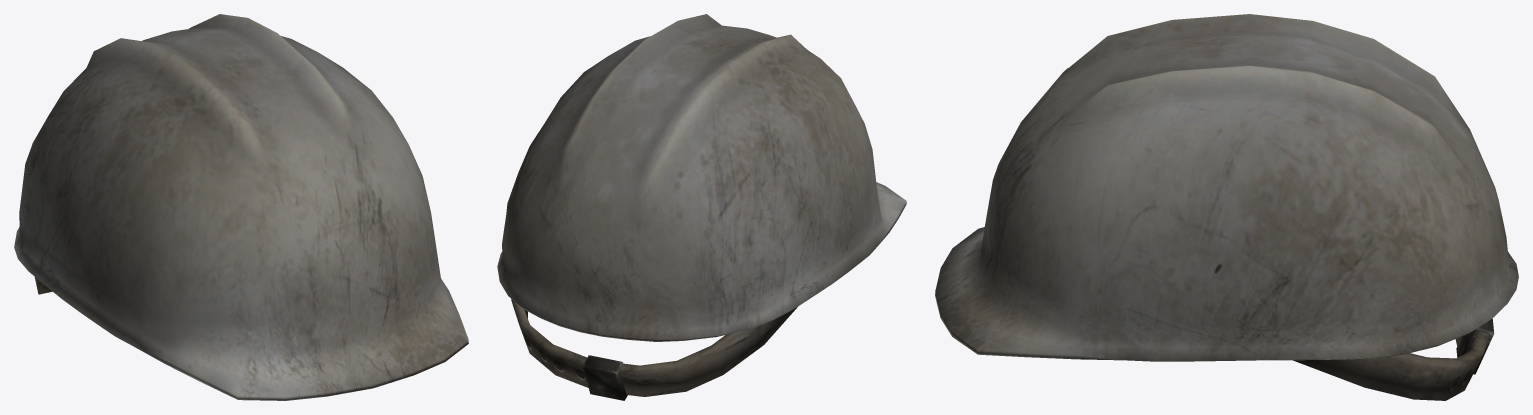
The model's file is SurvivorMale_Head_Hat_Hardhat_LOD0.glb.
3 views of the same model, side by side, from view 1: azimuth 30°, elevation 25°; view 2: azimuth 150°, elevation 25°; view 3: azimuth 270°, elevation 25° (orthographic). The views are drawn at different scales.
Parts seen in each view (by area): view 1: Hoodie; view 2: Hoodie; view 3: Hoodie.
Boxes of the visible parts, x1=… form: Hoodie: x1=14, y1=14, x2=468, y2=400; Hoodie: x1=497, y1=14, x2=906, y2=400; Hoodie: x1=935, y1=14, x2=1518, y2=400.
Bounding box in the file's own units: 0.1846 × 0.1671 × 0.2666.
1 material, 1 textured.
